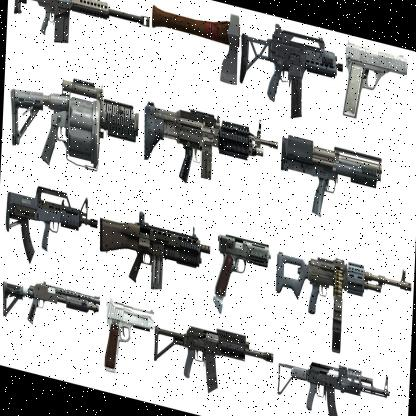rifle: (274, 236, 412, 360), (140, 90, 279, 206), (96, 184, 213, 312), (140, 309, 274, 408), (276, 127, 386, 236), (3, 170, 99, 282), (12, 0, 150, 74), (272, 342, 398, 416), (1, 264, 102, 349)
